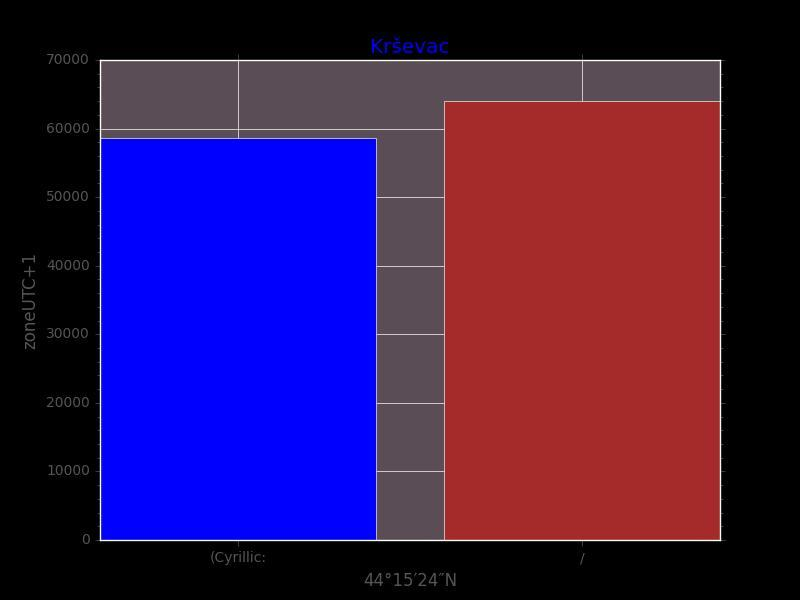axis: (22, 54, 90, 546)
rectangle: (444, 101, 720, 540), (100, 138, 376, 540)
